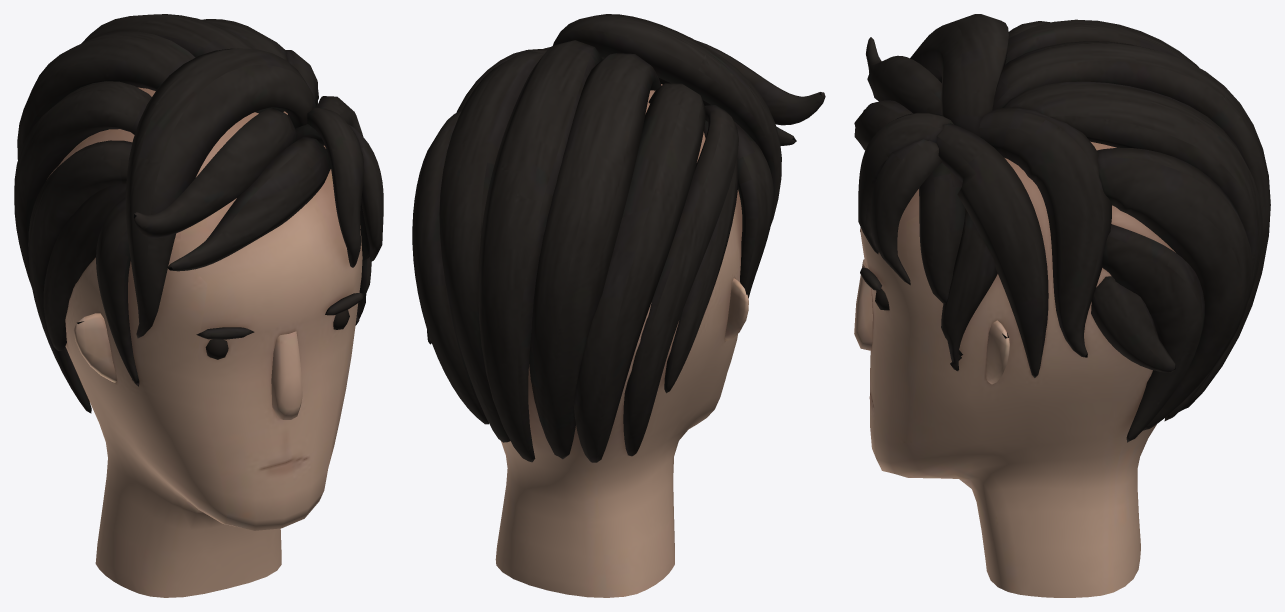
Rendered from PH_NPC__SuitMan_Head.fbx.
3 renders of one model, left to right at view 1: azimuth 30°, elevation 25°; view 2: azimuth 150°, elevation 25°; view 3: azimuth 270°, elevation 25°, orthographic. The views are drawn at different scales.
Parts seen in each view (by area): view 1: PH_NPC__SuitMan_Head; view 2: PH_NPC__SuitMan_Head; view 3: PH_NPC__SuitMan_Head.
Boxes of the visible parts, bbox=[...] form: PH_NPC__SuitMan_Head: bbox=[14, 14, 383, 597]; PH_NPC__SuitMan_Head: bbox=[412, 14, 825, 597]; PH_NPC__SuitMan_Head: bbox=[854, 14, 1270, 597].
Size of the model in its own units: 0.1738 by 0.3032 by 0.2152.
